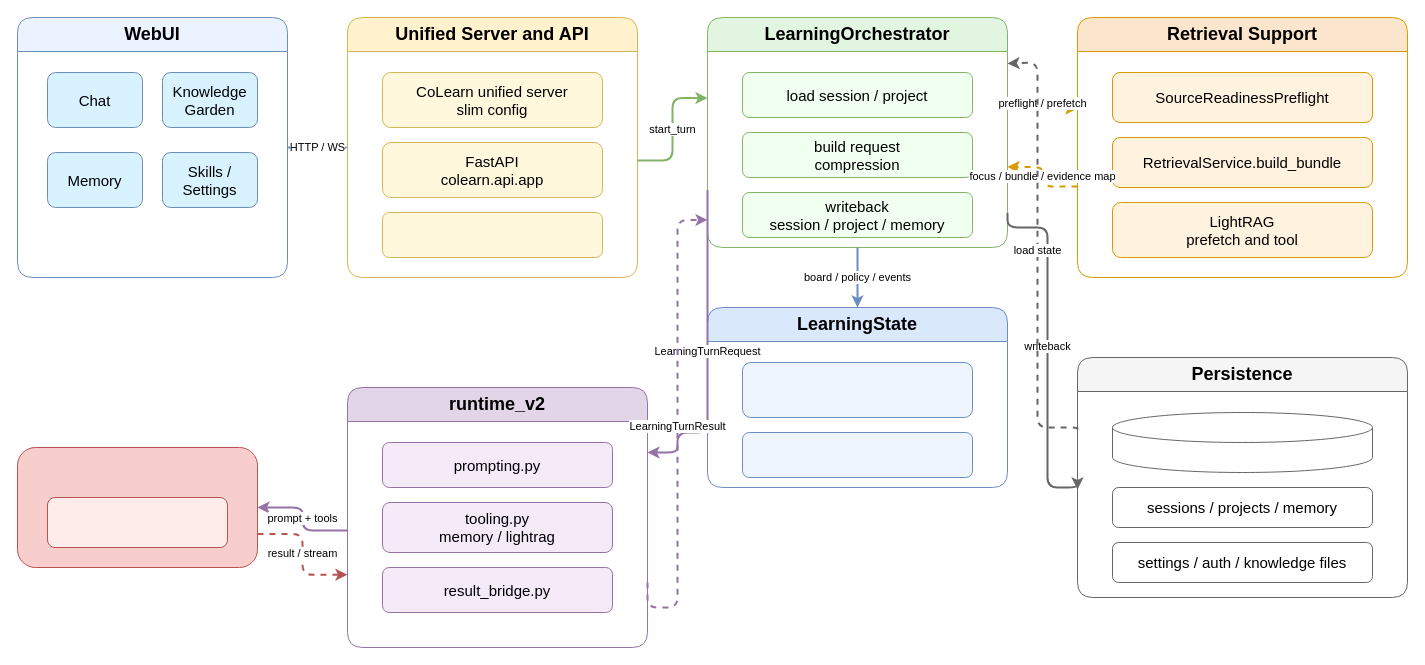
Image size: 1425x665. Some labels were removed from this diagram. Each missing label, with the centre of its shape:
"/api/v1/ws turn lifecycle" goes at (492,235).
"agent loop model / tools / stream" goes at (137,522).
"board_patch turn envelope" goes at (857,455).
"BoardFacts -> TurnPolicy -> LearningEvent" goes at (857,390).
"JsonStateStore" goes at (1242,442).
